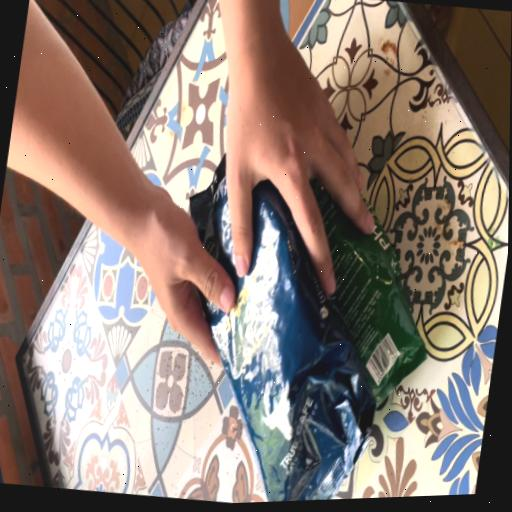cafe_hat: (191, 157, 375, 502)
cafe_xay: (314, 182, 426, 404)
